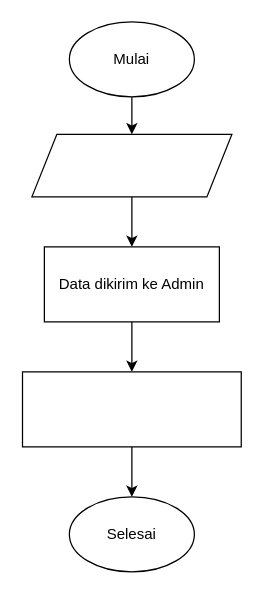
This 263x594 diagram has some shape labels left out. Here are the shapes that lost their labels. From the top down, the centre of each, then its label:
pixel 131 165: Relawan Mencatat Data
pixel 131 409: Admin menyimpan data dalam bentuk dokumen (Word/PDF)
